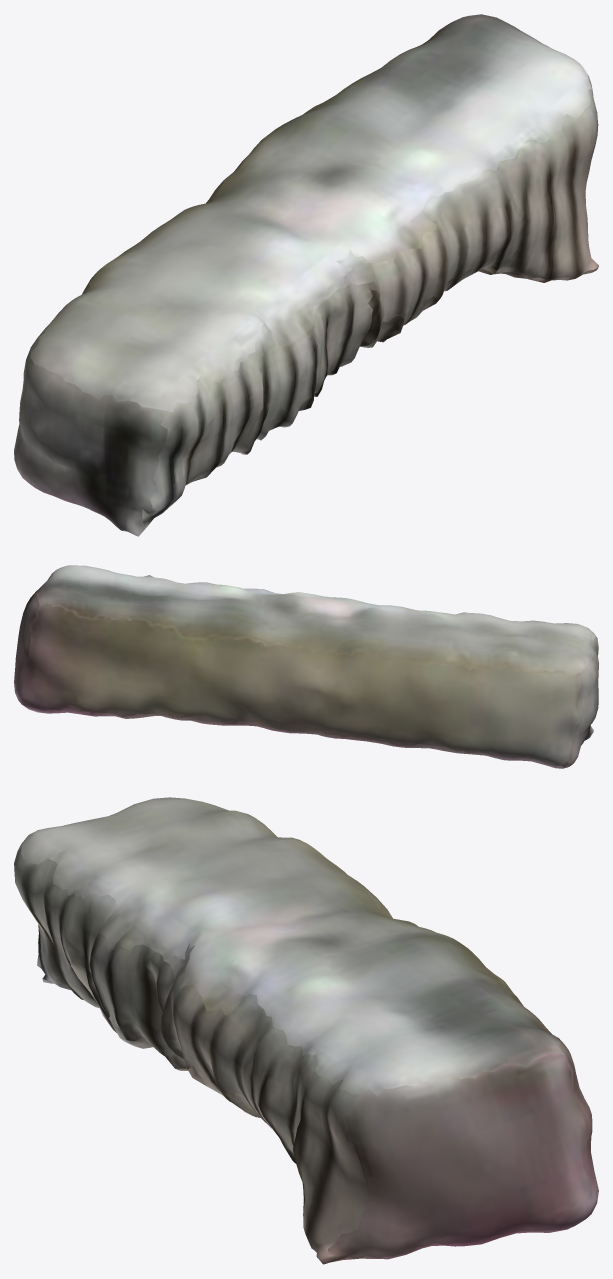
File: 8_radiator.glb
The picture shows the model from 3 angles, top to bottom: view 1: azimuth 30°, elevation 25°; view 2: azimuth 150°, elevation 25°; view 3: azimuth 270°, elevation 25°; orthographic projection. The views are drawn at different scales.
Visible parts, largest first — view 1: 8_radiator; view 2: 8_radiator; view 3: 8_radiator.
Part boxes in pixels (x1=…): 8_radiator: x1=14, y1=14, x2=598, y2=536; 8_radiator: x1=14, y1=565, x2=598, y2=768; 8_radiator: x1=14, y1=797, x2=598, y2=1264.
Bounding box in the file's own units: 0.8617 × 0.2769 × 0.5802.
Materials: 1 (1 with a texture image).
